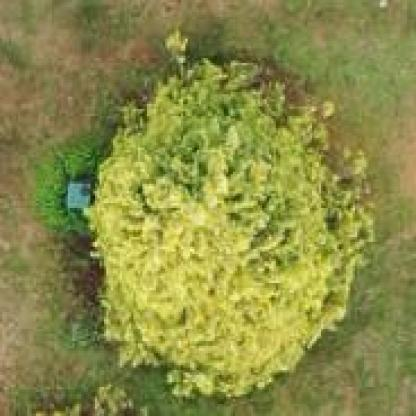Coniferous Tree: (59, 34, 380, 392)
